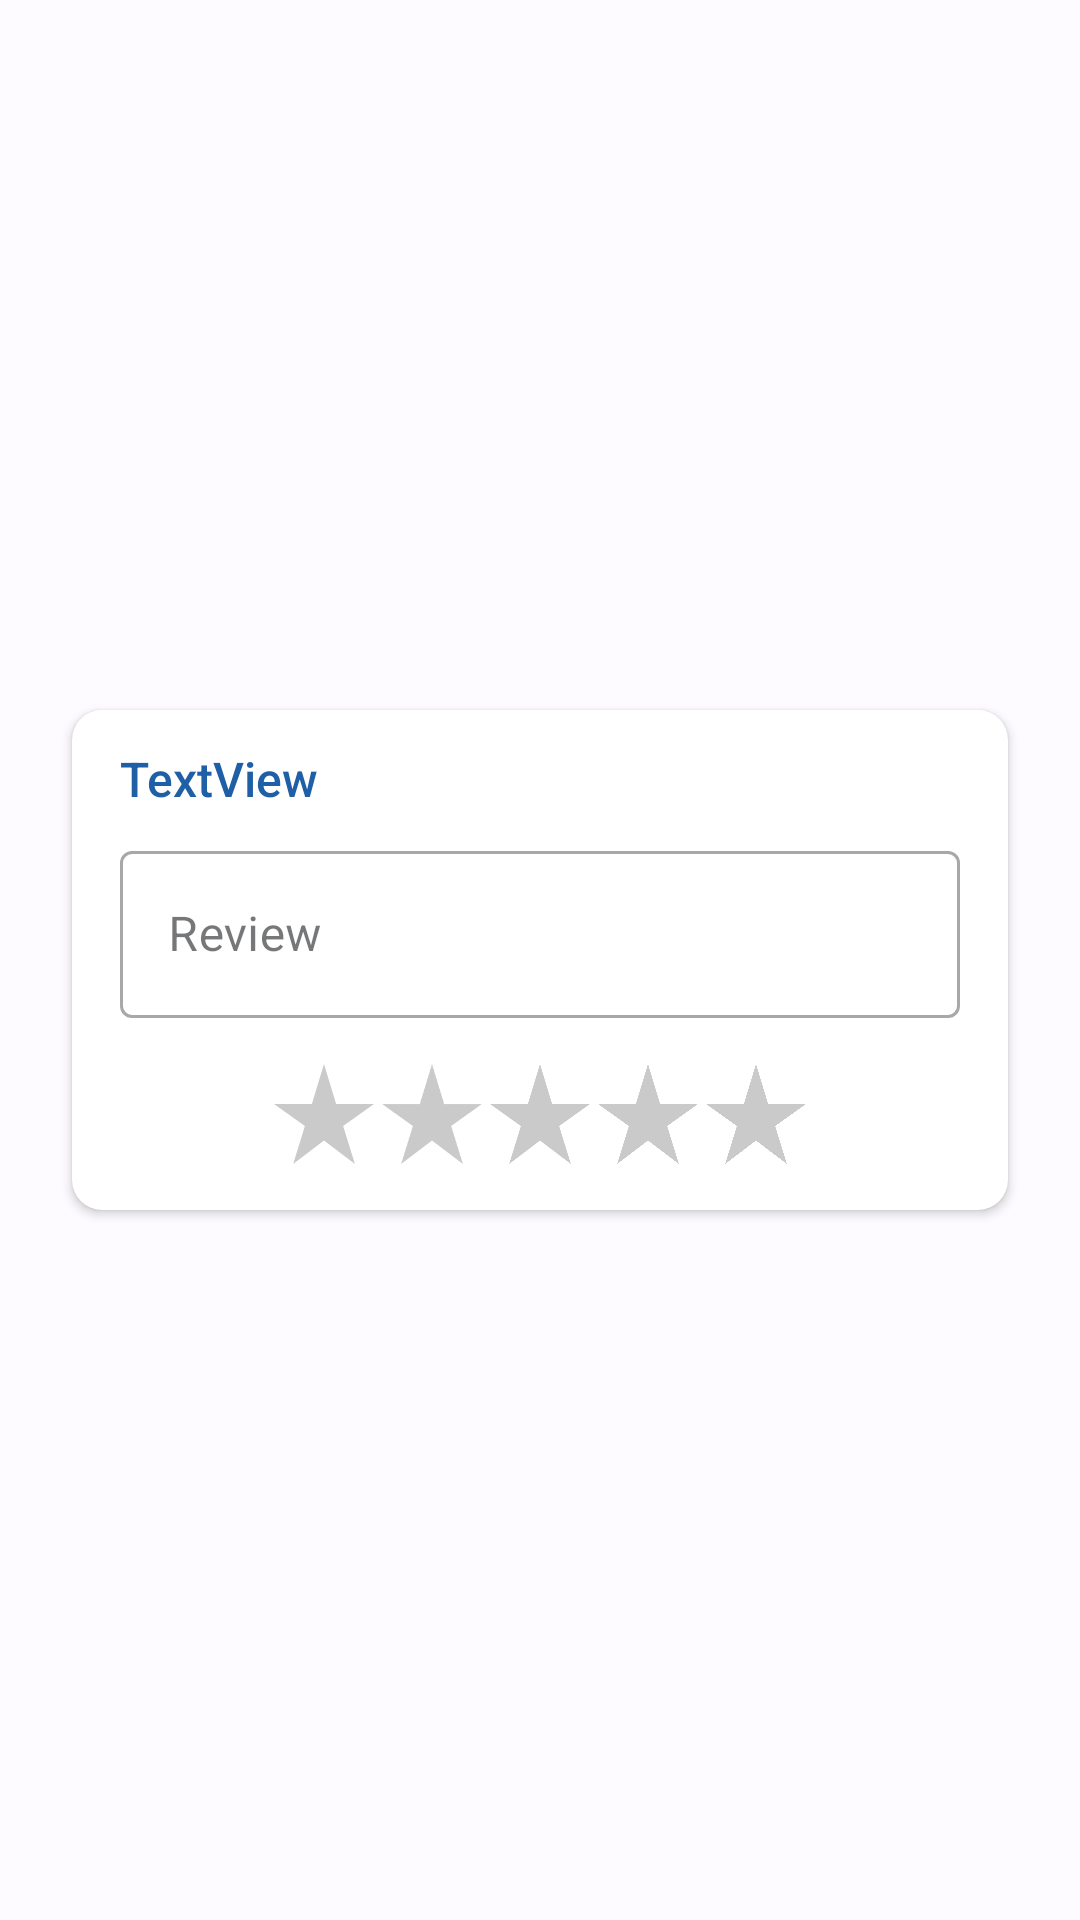

Named icons in this screenshot (1080×1920) and their centers, [x,y]:
star rate: [432,1114], [540,1114], [324,1114], [648,1115], [756,1115]
